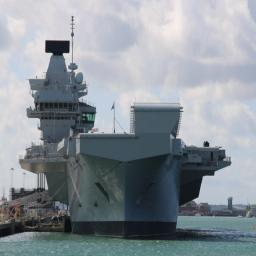Portanaves: (20, 15, 234, 242)
